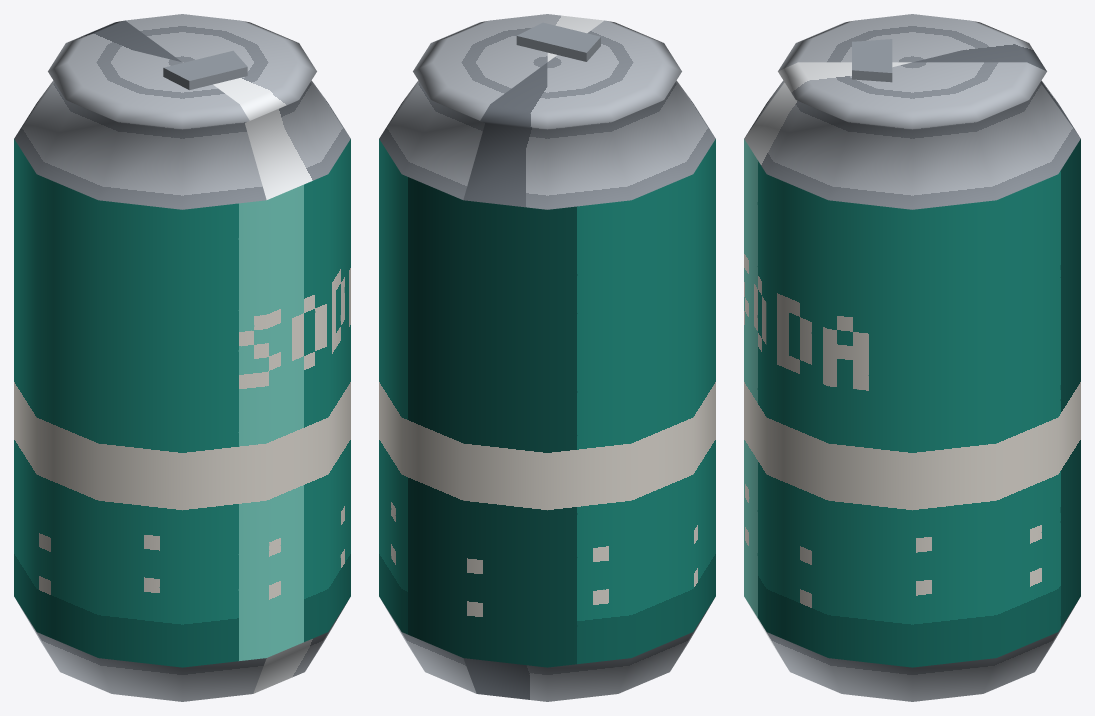
Rendered from drinks-sodaCan.glb.
The picture shows the model from 3 angles, left to right: view 1: azimuth 30°, elevation 25°; view 2: azimuth 150°, elevation 25°; view 3: azimuth 270°, elevation 25°; orthographic projection.
Parts seen in each view (by area): view 1: drinks.sodaCan; view 2: drinks.sodaCan; view 3: drinks.sodaCan.
Boxes of the visible parts, x1,y1,x2,y2 form: drinks.sodaCan: (14,14,350,701); drinks.sodaCan: (379,14,715,701); drinks.sodaCan: (744,14,1080,701).
Bounding box in the file's own units: 0.9502 × 1.83 × 0.9502.
Materials: 3 (2 with a texture image).
